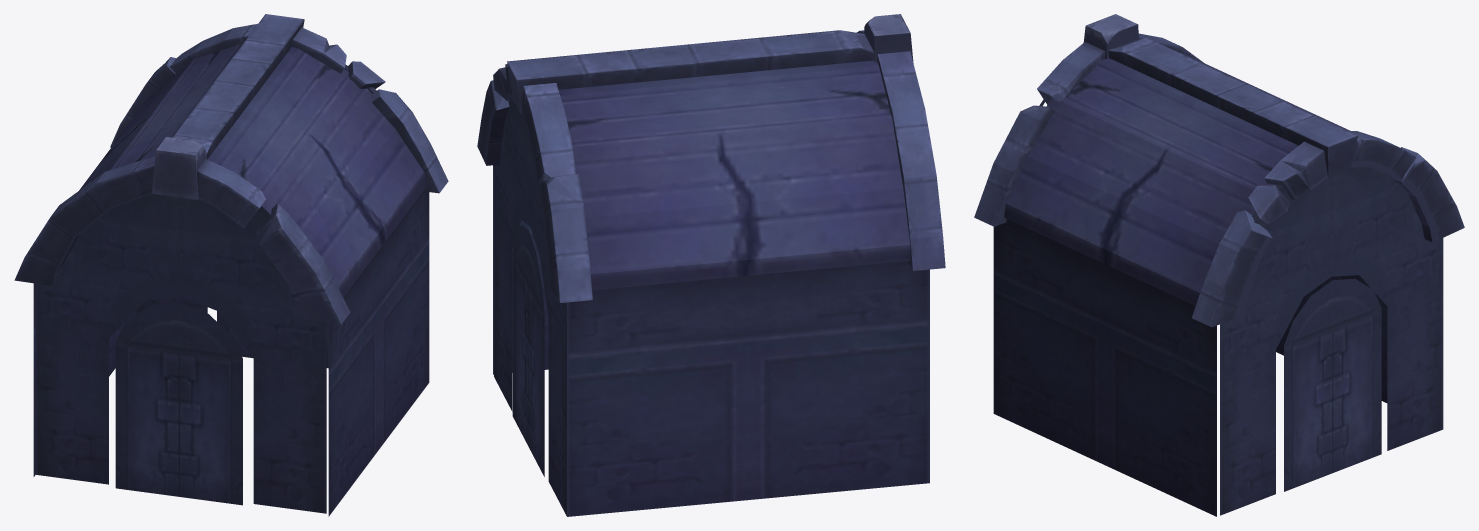
The model's file is Area11_18.fbx.
3 renders of one model, left to right at view 1: azimuth 30°, elevation 25°; view 2: azimuth 150°, elevation 25°; view 3: azimuth 270°, elevation 25°, orthographic. The views are drawn at different scales.
Parts seen in each view (by area): view 1: Area11_18; view 2: Area11_18; view 3: Area11_18.
Part boxes in pixels (x1,y1,x2,y2): Area11_18: [14, 14, 448, 516]; Area11_18: [477, 14, 945, 516]; Area11_18: [974, 14, 1464, 516].
Bounding box in the file's own units: 1004 × 783 × 1006.
